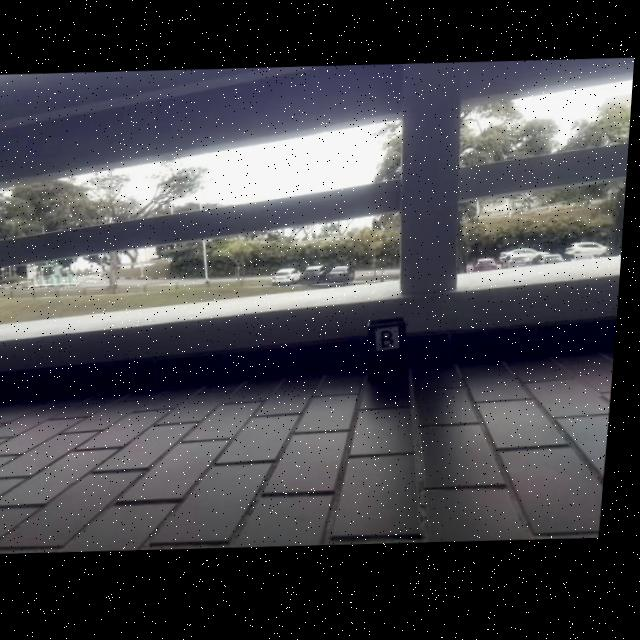B: (384, 333, 398, 350)
